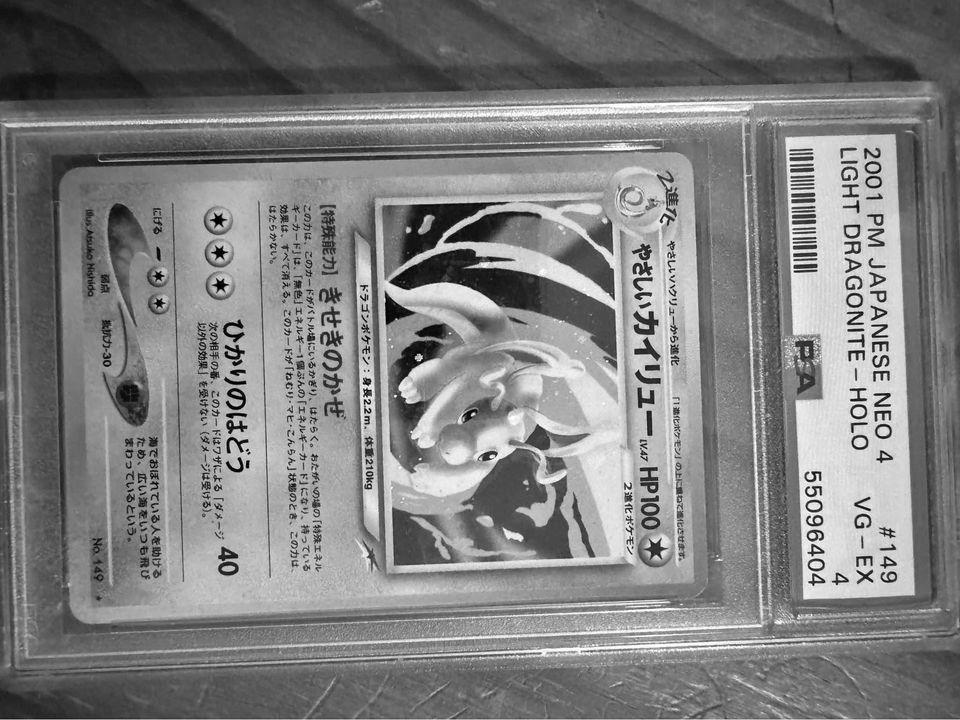card: (59, 151, 710, 625)
